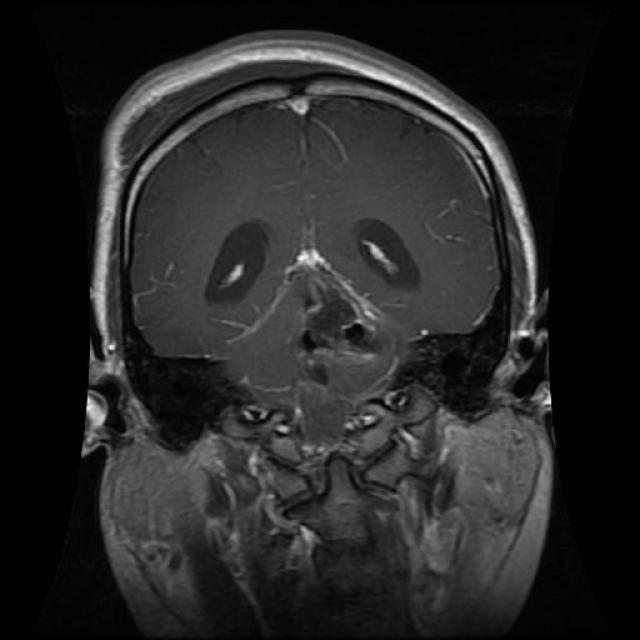glioma: (205, 216, 420, 308)
